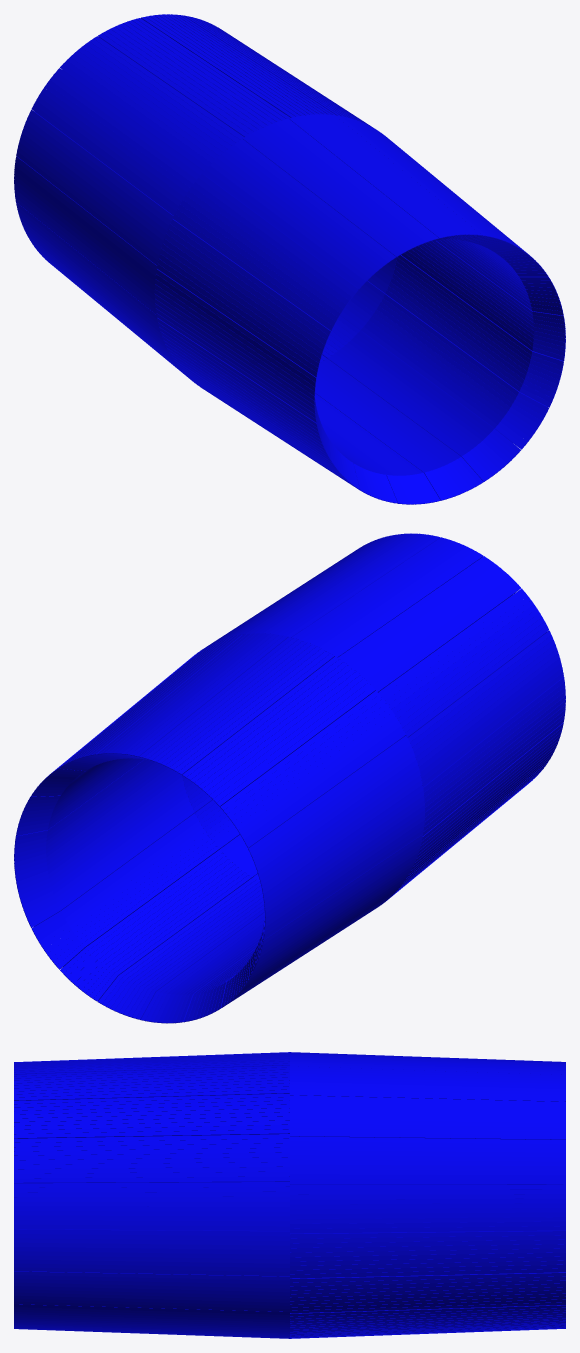
The model's file is ECalBarrel.fbx.
3 views of the same model, one above another, from view 1: azimuth 30°, elevation 25°; view 2: azimuth 150°, elevation 25°; view 3: azimuth 270°, elevation 25° (orthographic). The views are drawn at different scales.
Parts seen in each view (by area): view 1: Mesh681_eregalgo_EFAW_materials_E_Air340_lp_eregalgo_EFAW341, Mesh199_eregalgo_EFAW_materials_E_Air99_lp_eregalgo_EFAW100_, Mesh653_eregalgo_EFAW_materials_E_Air326_lp_eregalgo_EFAW327, Mesh649_eregalgo_EFAW_materials_E_Air324_lp_eregalgo_EFAW325, Mesh651_eregalgo_EFAW_materials_E_Air325_lp_eregalgo_EFAW326, Mesh655_eregalgo_EFAW_materials_E_Air327_lp_eregalgo_EFAW328, Mesh657_eregalgo_EFAW_materials_E_Air328_lp_eregalgo_EFAW329, Mesh659_eregalgo_EFAW_materials_E_Air329_lp_eregalgo_EFAW330, Mesh647_eregalgo_EFAW_materials_E_Air323_lp_eregalgo_EFAW324, Mesh645_eregalgo_EFAW_materials_E_Air322_lp_eregalgo_EFAW323, Mesh683_eregalgo_EFAW_materials_E_Air341_lp_eregalgo_EFAW342, Mesh643_eregalgo_EFAW_materials_E_Air321_lp_eregalgo_EFAW322 (+158 smaller); view 2: Mesh519_eregalgo_EFAW_materials_E_Air259_lp_eregalgo_EFAW260, Mesh33_eregalgo_EFAW_materials_E_Air16_lp_eregalgo_EFAW17_Mo, Mesh631_eregalgo_EFAW_materials_E_Air315_lp_eregalgo_EFAW316, Mesh627_eregalgo_EFAW_materials_E_Air313_lp_eregalgo_EFAW314, Mesh623_eregalgo_EFAW_materials_E_Air311_lp_eregalgo_EFAW312, Mesh625_eregalgo_EFAW_materials_E_Air312_lp_eregalgo_EFAW313, Mesh629_eregalgo_EFAW_materials_E_Air314_lp_eregalgo_EFAW315, Mesh633_eregalgo_EFAW_materials_E_Air316_lp_eregalgo_EFAW317, Mesh635_eregalgo_EFAW_materials_E_Air317_lp_eregalgo_EFAW318, Mesh621_eregalgo_EFAW_materials_E_Air310_lp_eregalgo_EFAW311, Mesh517_eregalgo_EFAW_materials_E_Air258_lp_eregalgo_EFAW259, Mesh637_eregalgo_EFAW_materials_E_Air318_lp_eregalgo_EFAW319 (+157 smaller); view 3: Mesh429_eregalgo_EFAW_materials_E_Air214_lp_eregalgo_EFAW215, Mesh381_eregalgo_EFAW_materials_E_Air190_lp_eregalgo_EFAW191, Mesh419_eregalgo_EFAW_materials_E_Air209_lp_eregalgo_EFAW210, Mesh257_eregalgo_EFAW_materials_E_Air128_lp_eregalgo_EFAW129, Mesh259_eregalgo_EFAW_materials_E_Air129_lp_eregalgo_EFAW130, Mesh159_eregalgo_EFAW_materials_E_Air79_lp_eregalgo_EFAW80_M, Mesh461_eregalgo_EFAW_materials_E_Air230_lp_eregalgo_EFAW231, Mesh431_eregalgo_EFAW_materials_E_Air215_lp_eregalgo_EFAW216, Mesh383_eregalgo_EFAW_materials_E_Air191_lp_eregalgo_EFAW192, Mesh385_eregalgo_EFAW_materials_E_Air192_lp_eregalgo_EFAW193, Mesh251_eregalgo_EFAW_materials_E_Air125_lp_eregalgo_EFAW126, Mesh435_eregalgo_EFAW_materials_E_Air217_lp_eregalgo_EFAW218 (+152 smaller).
Part boxes in pixels (<box>): Mesh681_eregalgo_EFAW_materials_E_Air340_lp_eregalgo_EFAW341: <box>202,169,362,288</box>; Mesh199_eregalgo_EFAW_materials_E_Air99_lp_eregalgo_EFAW100_: <box>170,219,330,335</box>; Mesh653_eregalgo_EFAW_materials_E_Air326_lp_eregalgo_EFAW327: <box>189,186,349,304</box>; Mesh649_eregalgo_EFAW_materials_E_Air324_lp_eregalgo_EFAW325: <box>183,195,343,313</box>; Mesh651_eregalgo_EFAW_materials_E_Air325_lp_eregalgo_EFAW326: <box>186,191,346,309</box>; Mesh655_eregalgo_EFAW_materials_E_Air327_lp_eregalgo_EFAW328: <box>192,182,352,300</box>; Mesh657_eregalgo_EFAW_materials_E_Air328_lp_eregalgo_EFAW329: <box>195,178,355,296</box>; Mesh659_eregalgo_EFAW_materials_E_Air329_lp_eregalgo_EFAW330: <box>199,174,358,293</box>; Mesh647_eregalgo_EFAW_materials_E_Air323_lp_eregalgo_EFAW324: <box>180,200,340,317</box>; Mesh645_eregalgo_EFAW_materials_E_Air322_lp_eregalgo_EFAW323: <box>177,204,337,321</box>; Mesh683_eregalgo_EFAW_materials_E_Air341_lp_eregalgo_EFAW342: <box>206,165,365,285</box>; Mesh643_eregalgo_EFAW_materials_E_Air321_lp_eregalgo_EFAW322: <box>175,209,335,326</box>; Mesh519_eregalgo_EFAW_materials_E_Air259_lp_eregalgo_EFAW260: <box>216,686,375,806</box>; Mesh33_eregalgo_EFAW_materials_E_Air16_lp_eregalgo_EFAW17_Mo: <box>248,735,408,852</box>; Mesh631_eregalgo_EFAW_materials_E_Air315_lp_eregalgo_EFAW316: <box>235,712,395,830</box>; Mesh627_eregalgo_EFAW_materials_E_Air313_lp_eregalgo_EFAW314: <box>229,703,389,822</box>; Mesh623_eregalgo_EFAW_materials_E_Air311_lp_eregalgo_EFAW312: <box>223,694,382,814</box>; Mesh625_eregalgo_EFAW_materials_E_Air312_lp_eregalgo_EFAW313: <box>226,699,385,818</box>; Mesh629_eregalgo_EFAW_materials_E_Air314_lp_eregalgo_EFAW315: <box>232,707,392,826</box>; Mesh633_eregalgo_EFAW_materials_E_Air316_lp_eregalgo_EFAW317: <box>238,716,398,834</box>; Mesh635_eregalgo_EFAW_materials_E_Air317_lp_eregalgo_EFAW318: <box>240,721,400,839</box>; Mesh621_eregalgo_EFAW_materials_E_Air310_lp_eregalgo_EFAW311: <box>220,691,379,810</box>; Mesh517_eregalgo_EFAW_materials_E_Air258_lp_eregalgo_EFAW259: <box>213,682,371,802</box>; Mesh637_eregalgo_EFAW_materials_E_Air318_lp_eregalgo_EFAW319: <box>243,725,403,843</box>; Mesh429_eregalgo_EFAW_materials_E_Air214_lp_eregalgo_EFAW215: <box>14,1201,289,1206</box>; Mesh381_eregalgo_EFAW_materials_E_Air190_lp_eregalgo_EFAW191: <box>290,1179,565,1184</box>; Mesh419_eregalgo_EFAW_materials_E_Air209_lp_eregalgo_EFAW210: <box>14,1176,289,1183</box>; Mesh257_eregalgo_EFAW_materials_E_Air128_lp_eregalgo_EFAW129: <box>290,1189,565,1194</box>; Mesh259_eregalgo_EFAW_materials_E_Air129_lp_eregalgo_EFAW130: <box>290,1184,565,1189</box>; Mesh159_eregalgo_EFAW_materials_E_Air79_lp_eregalgo_EFAW80_M: <box>290,1230,565,1238</box>; Mesh461_eregalgo_EFAW_materials_E_Air230_lp_eregalgo_EFAW231: <box>14,1229,289,1236</box>; Mesh431_eregalgo_EFAW_materials_E_Air215_lp_eregalgo_EFAW216: <box>14,1206,289,1211</box>; Mesh383_eregalgo_EFAW_materials_E_Air191_lp_eregalgo_EFAW192: <box>290,1174,565,1179</box>; Mesh385_eregalgo_EFAW_materials_E_Air192_lp_eregalgo_EFAW193: <box>290,1169,565,1175</box>; Mesh251_eregalgo_EFAW_materials_E_Air125_lp_eregalgo_EFAW126: <box>290,1203,565,1209</box>; Mesh435_eregalgo_EFAW_materials_E_Air217_lp_eregalgo_EFAW218: <box>14,1215,289,1221</box>.
Size of the model in its own units: 316 by 316 by 609.
